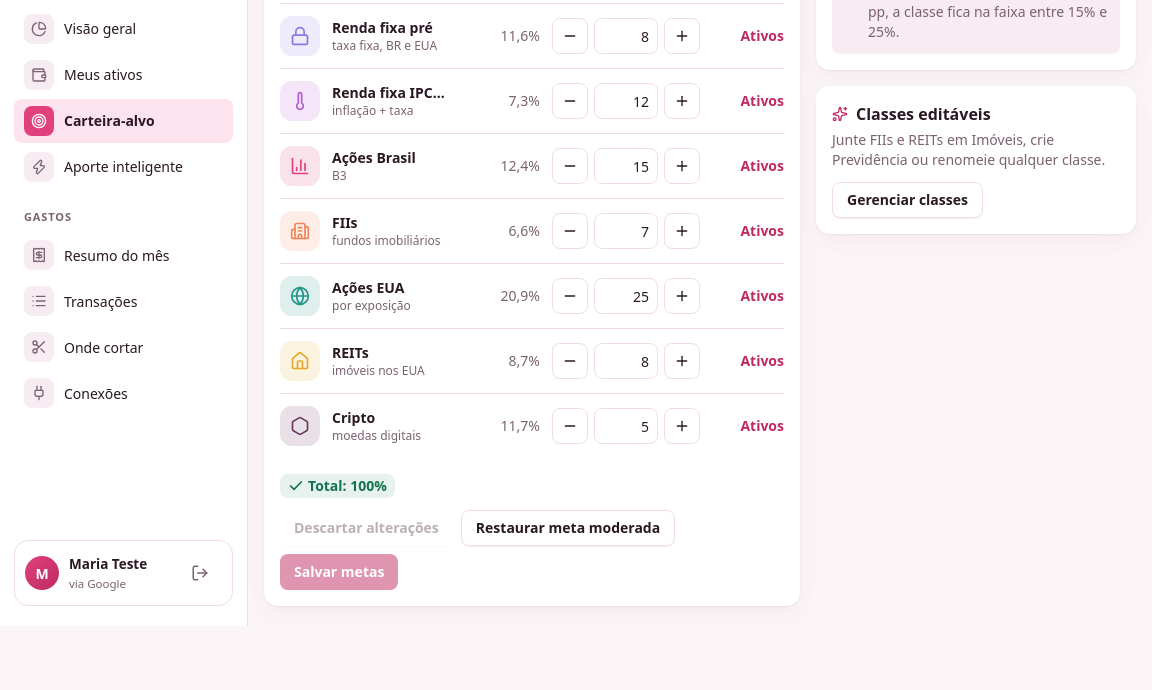
Test: carteira-alvo: edição e salvamento › mostra quanto falta quando a soma fica abaixo de 100%
(page scrolled)
Expected: the field named "Meta de Cripto" is shown, x1=594 y1=408 x2=658 y2=444
Click the button named "Diminuir Cripto".
click(570, 426)  # box x1=552 y1=408 x2=588 y2=444
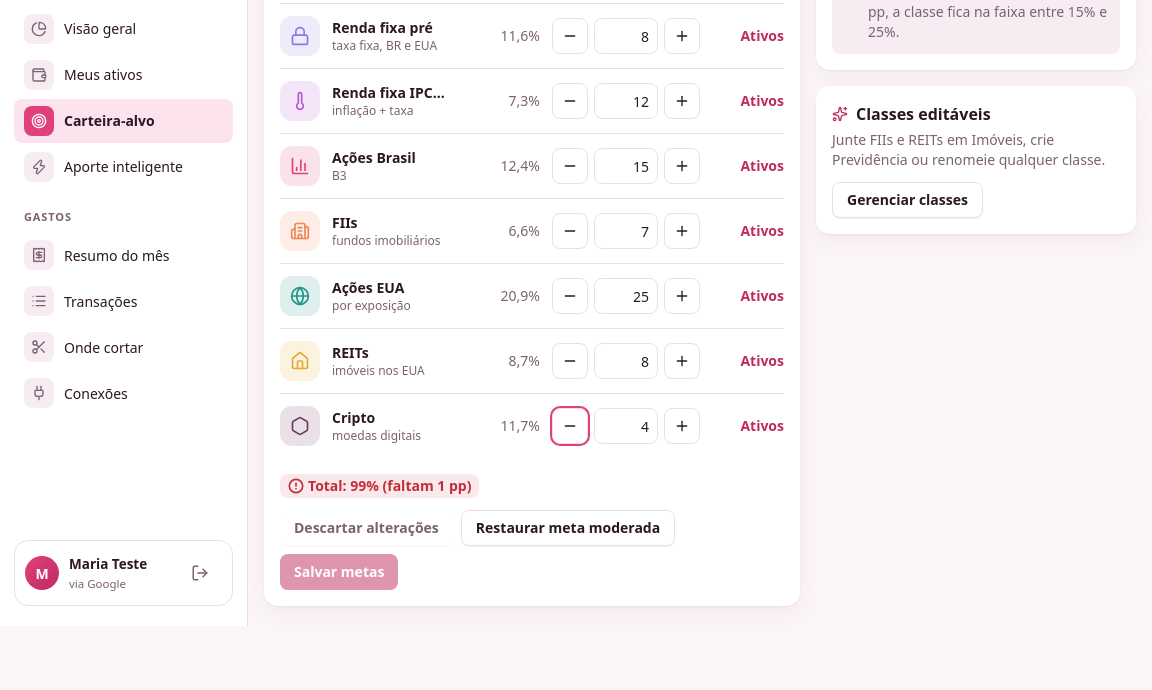
Click the button named "Diminuir Cripto".
click(570, 426)  # box x1=552 y1=408 x2=588 y2=444
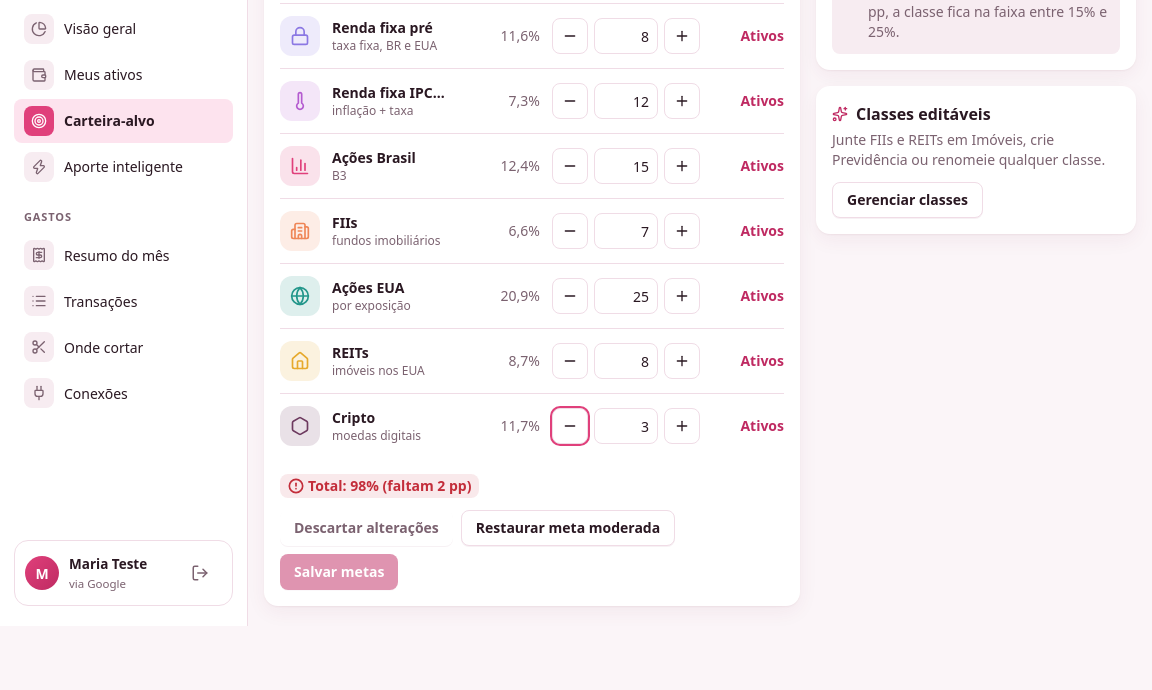
Expected: the text "Total: 98% (faltam 2 pp)" is shown, x1=280 y1=474 x2=479 y2=498
